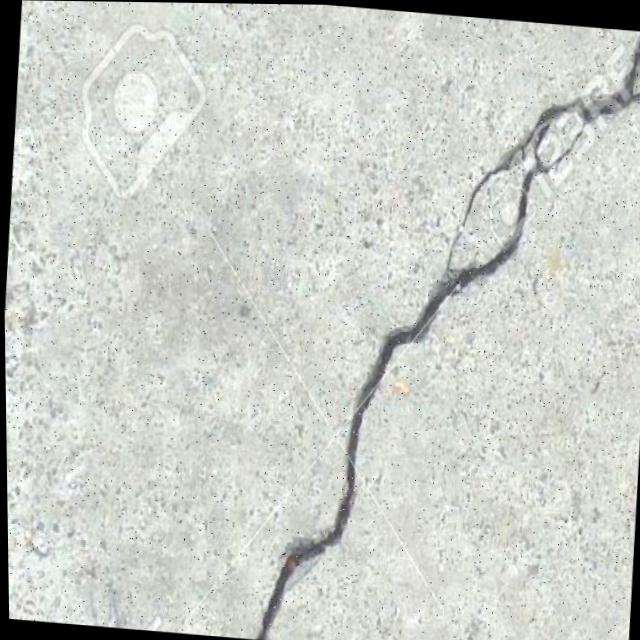Crack: (239, 3, 640, 640)
